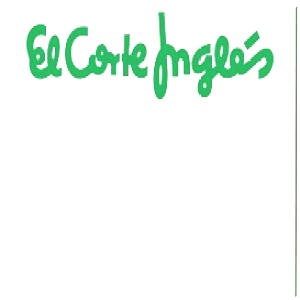corte_ingles: (264, 6, 289, 18)
